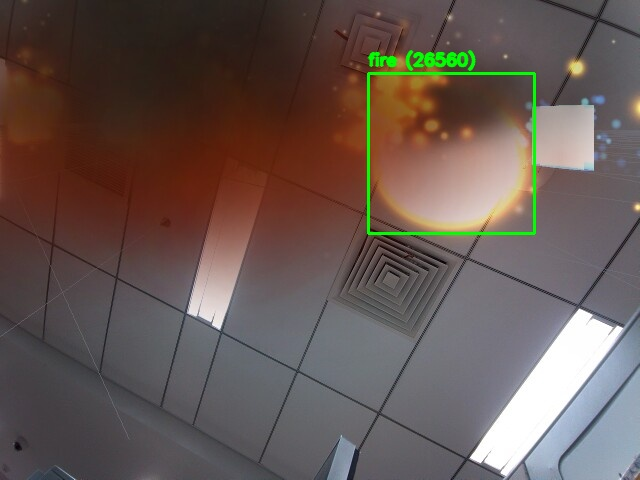fire: (368, 73, 534, 233)
